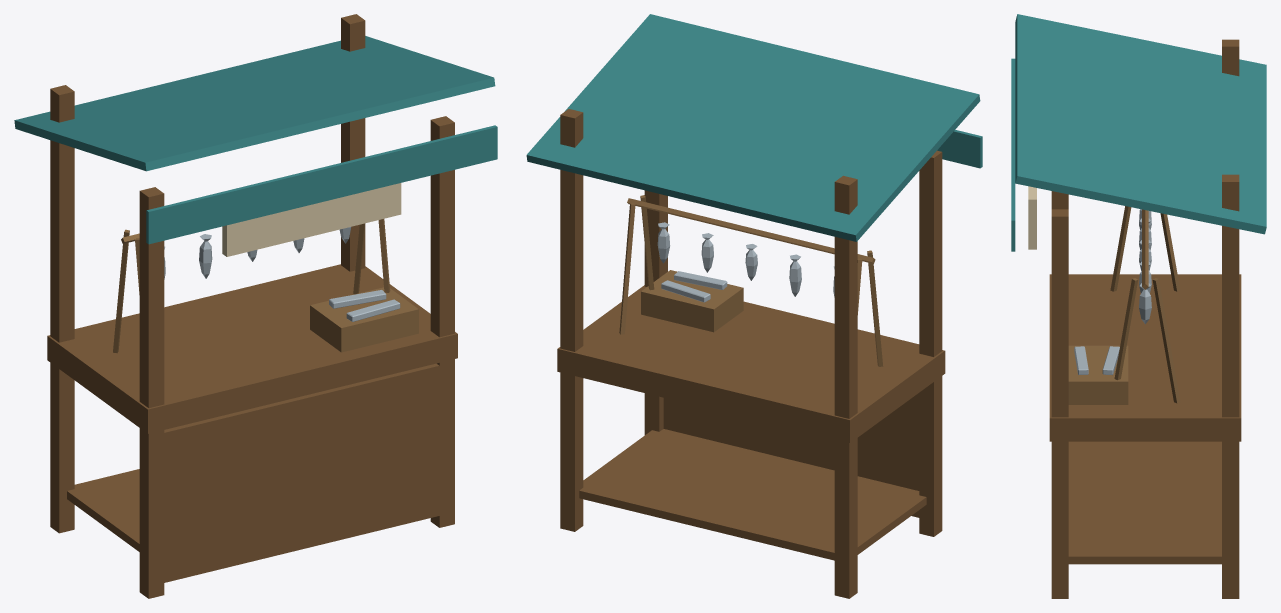
Rendered from Prop_YTM_Stall_Fish_LOD1.glb.
3 renders of one model, left to right at view 1: azimuth 30°, elevation 25°; view 2: azimuth 150°, elevation 25°; view 3: azimuth 270°, elevation 25°, orthographic. The views are drawn at different scales.
Parts seen in each view (by area): view 1: Prop_YTM_Stall_Fish, Prop_YTM_Stall_Fish_Goods; view 2: Prop_YTM_Stall_Fish, Prop_YTM_Stall_Fish_Goods; view 3: Prop_YTM_Stall_Fish, Prop_YTM_Stall_Fish_Goods.
Part boxes in pixels (left/top/right/bottom): Prop_YTM_Stall_Fish: left=14, top=14, right=497, bottom=598; Prop_YTM_Stall_Fish_Goods: left=113, top=219, right=418, bottom=353; Prop_YTM_Stall_Fish: left=526, top=14, right=982, bottom=598; Prop_YTM_Stall_Fish_Goods: left=619, top=195, right=883, bottom=366; Prop_YTM_Stall_Fish: left=1011, top=14, right=1266, bottom=598; Prop_YTM_Stall_Fish_Goods: left=1068, top=206, right=1180, bottom=404.
Size of the model in its own units: 1.8 by 2.24 by 1.2.
